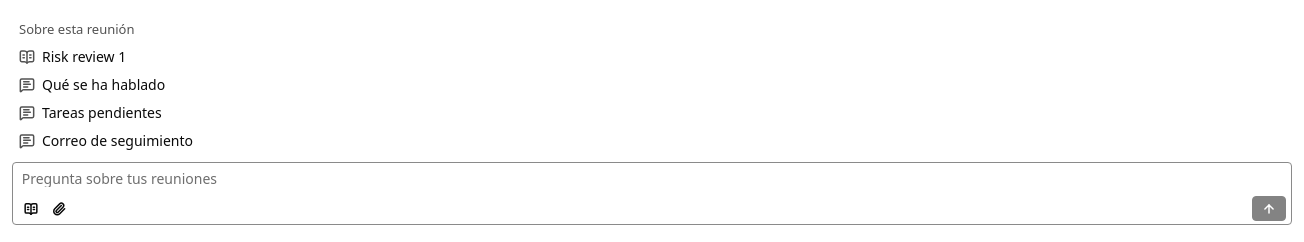
Test case: the / menu lists saved prompts first › shows the Spanish section names
Expected: the list with test id "ListMeetingChatStarters" shows "Risk review 1", [12,42,1292,70]
Click the button with test id "BtnMeetingChatRecipes" at (31, 209), box [18,196,43,221]
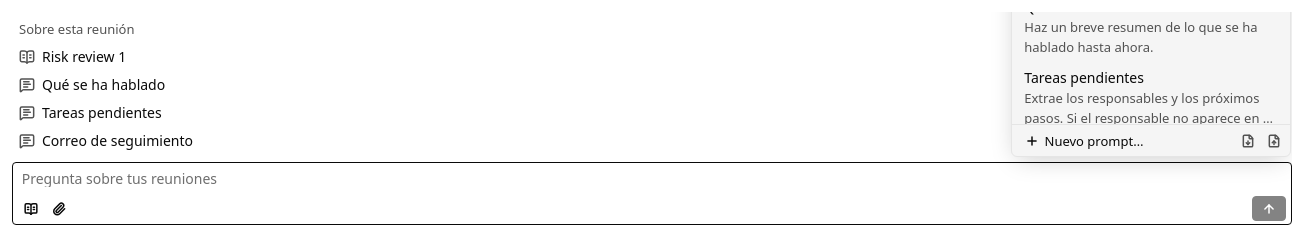
Result: the button with test id "BtnChatPromptNew" reads "Nuevo prompt…" at [1016,128,1153,153]
